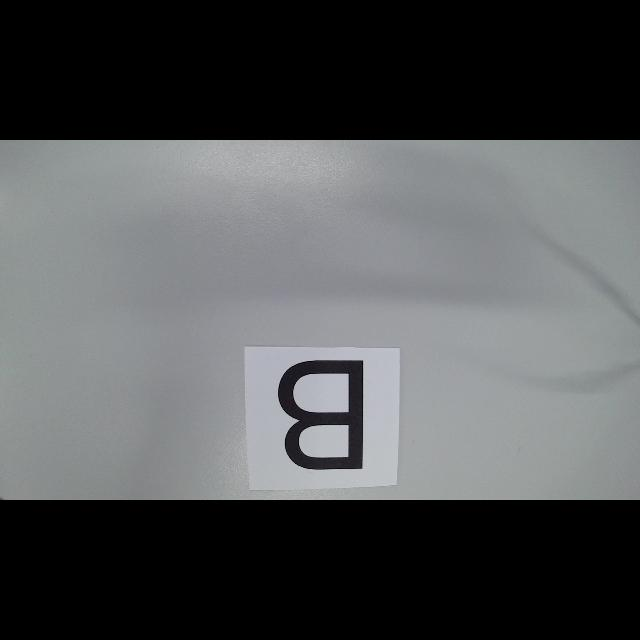FAKE: (278, 360, 364, 470)
